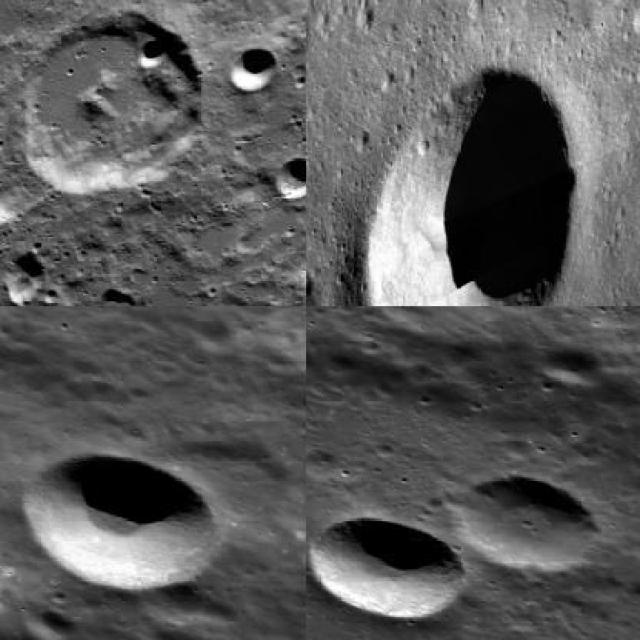crater: (365, 69, 569, 305), (28, 17, 203, 195), (20, 455, 217, 591), (308, 517, 466, 621), (449, 480, 600, 572), (232, 49, 276, 92), (274, 157, 304, 201), (140, 39, 171, 63)
